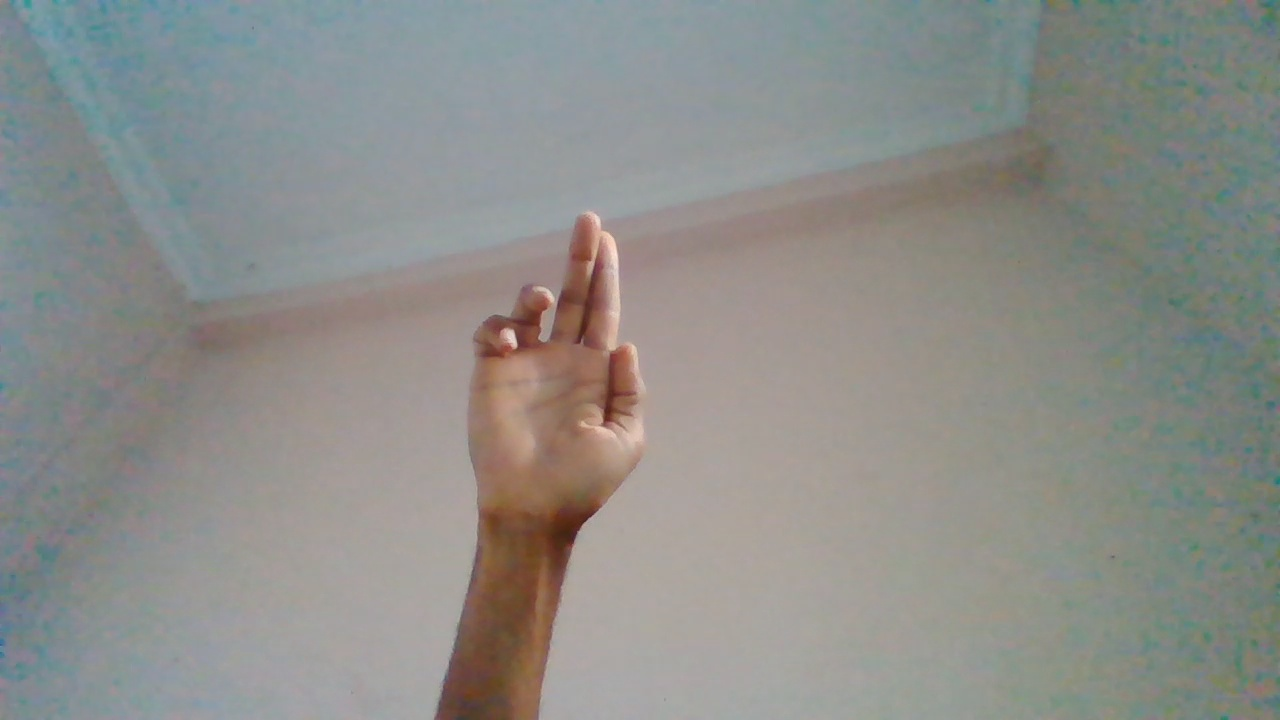gne: (466, 216, 651, 648)
